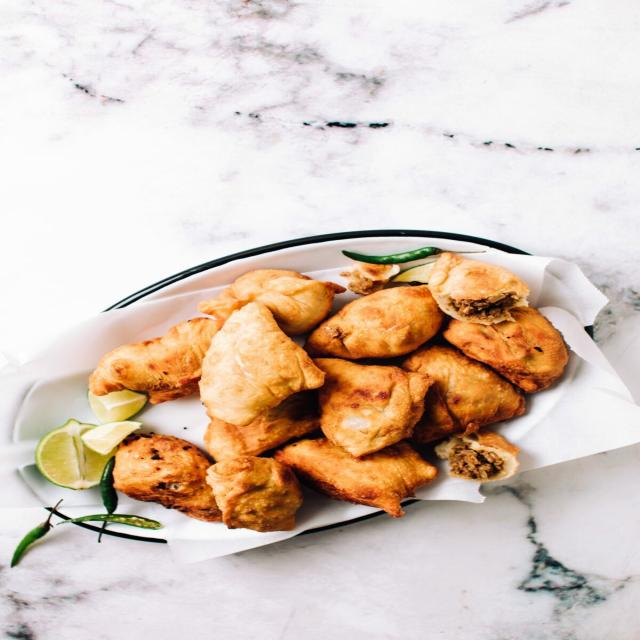SAMOSA: (204, 304, 334, 430), (110, 432, 229, 526), (281, 443, 442, 512), (307, 357, 425, 451), (90, 314, 215, 401), (431, 251, 538, 323)
